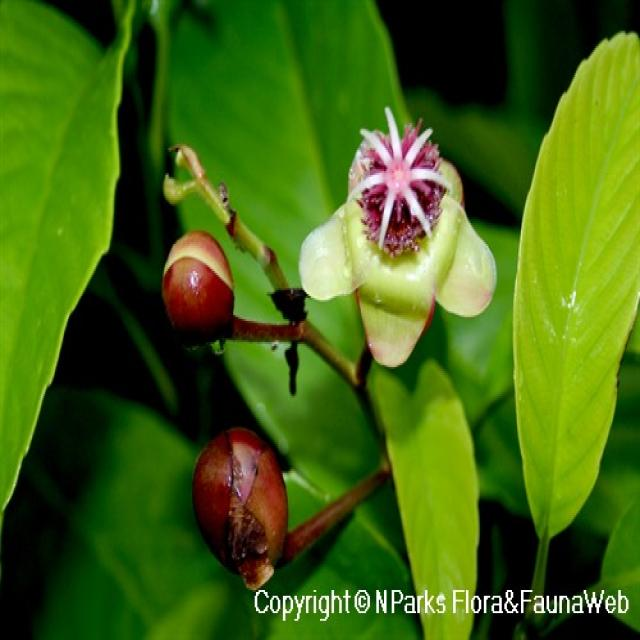Simpoh-Lak: (298, 104, 498, 371), (190, 417, 290, 592), (160, 230, 237, 348)
